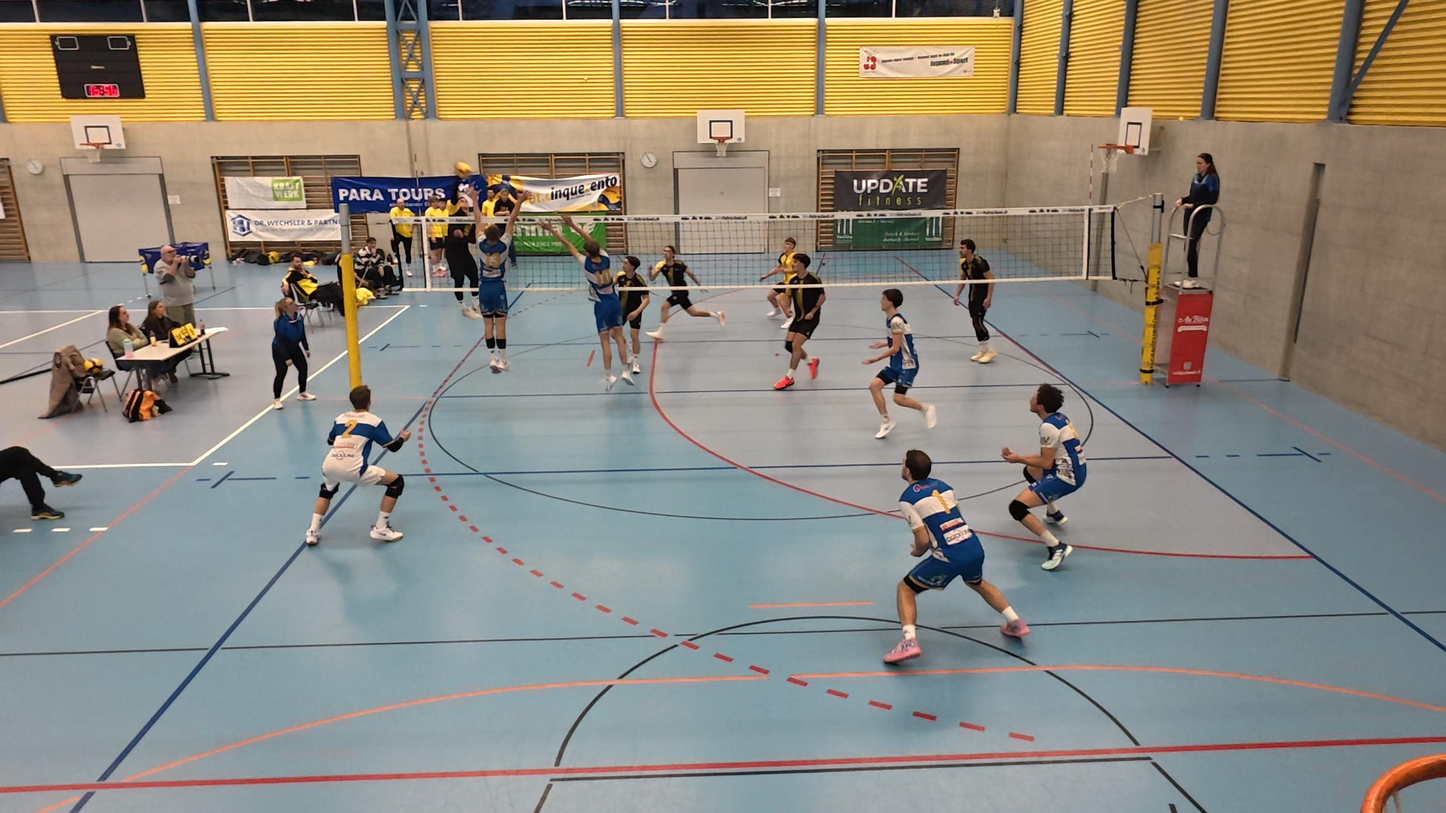Attack: (422, 184, 481, 322)
Block: (565, 217, 635, 388), (469, 199, 519, 375)
Player: (883, 450, 1028, 662), (305, 382, 413, 546), (998, 384, 1088, 570), (864, 290, 935, 439), (779, 254, 826, 388), (655, 244, 719, 332), (954, 237, 996, 365), (611, 253, 651, 380), (763, 241, 798, 332)
ball: (454, 159, 470, 176)
